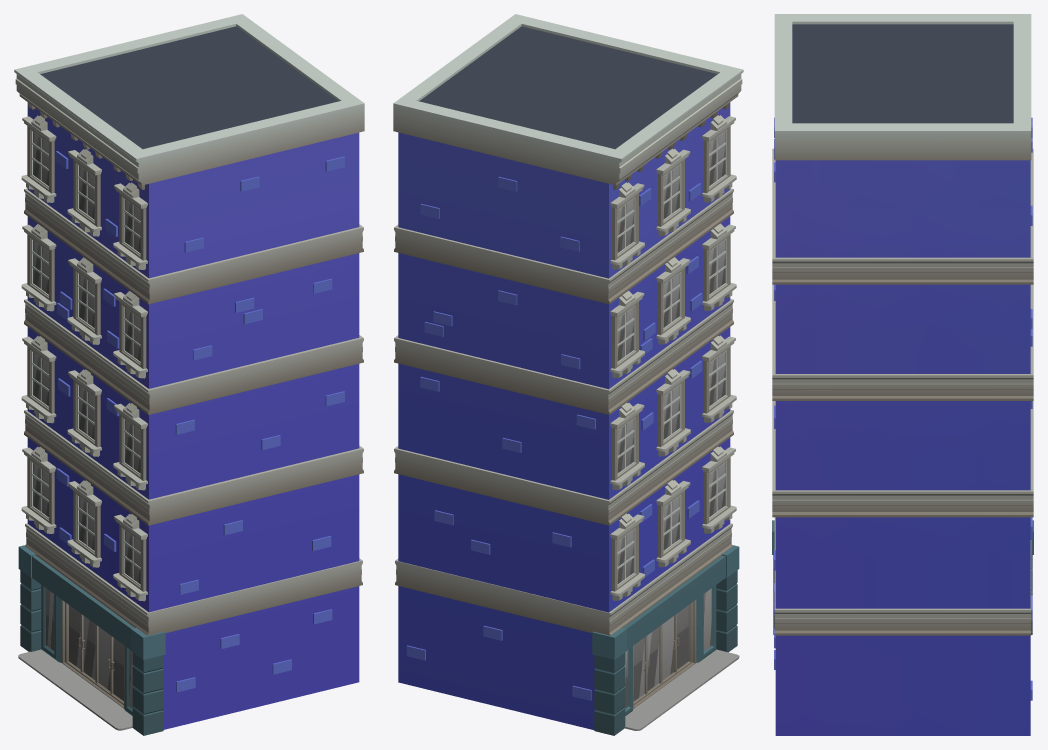
File: Building_21_1_G.fbx
3 renders of one model, left to right at view 1: azimuth 30°, elevation 25°; view 2: azimuth 150°, elevation 25°; view 3: azimuth 270°, elevation 25°, orthographic. The views are drawn at different scales.
Visible parts, largest first — view 1: Building_21_1_G; view 2: Building_21_1_G; view 3: Building_21_1_G.
Boxes of the visible parts, <box> form: Building_21_1_G: <box>14,14,364,735</box>; Building_21_1_G: <box>393,14,743,735</box>; Building_21_1_G: <box>772,14,1033,735</box>.
Size of the model in its own units: 779 by 1825 by 713.
